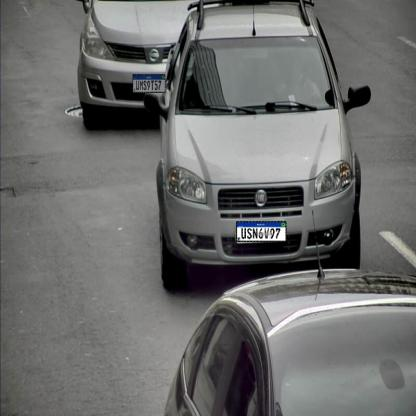PlacaM: (236, 221, 287, 242), (132, 74, 166, 93)
